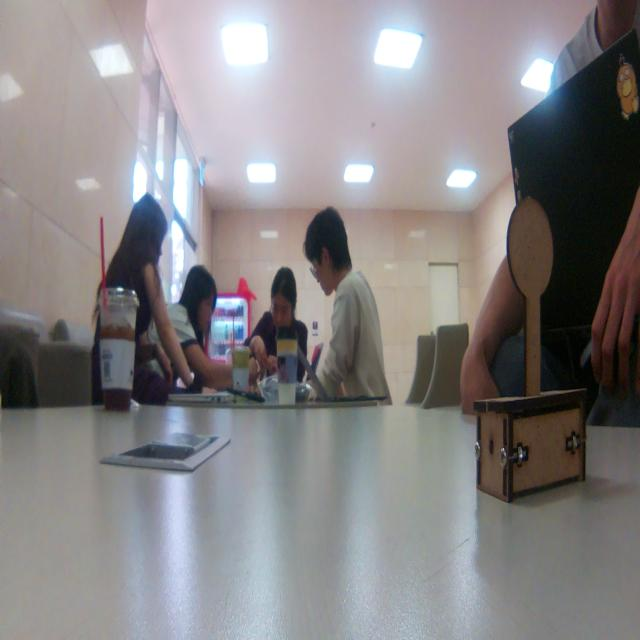target: (472, 197, 589, 503)
